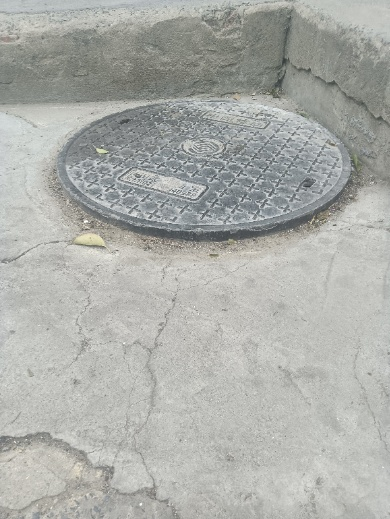good: (56, 100, 353, 242)
